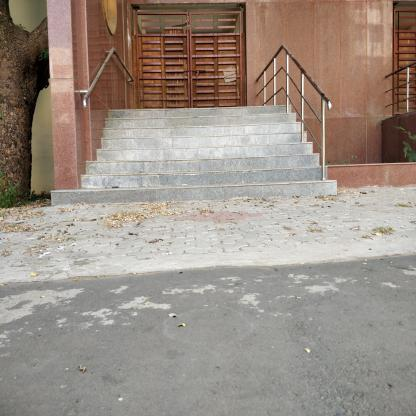stairs: (106, 114, 296, 207)
